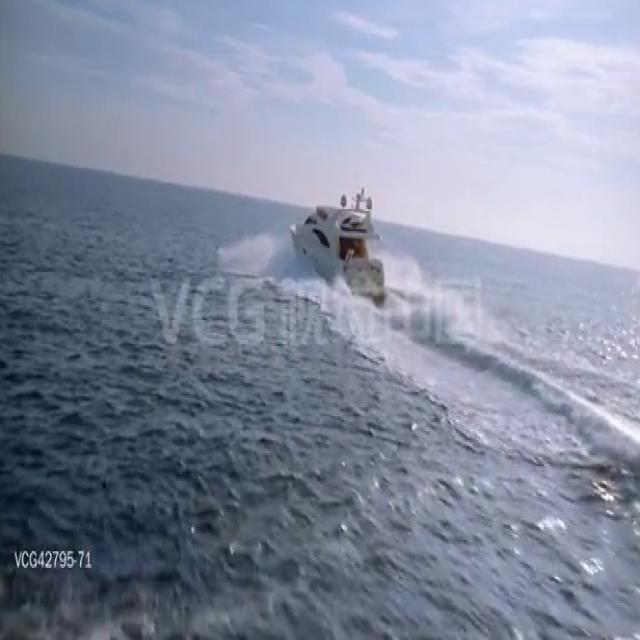houseboat: (284, 181, 388, 302)
